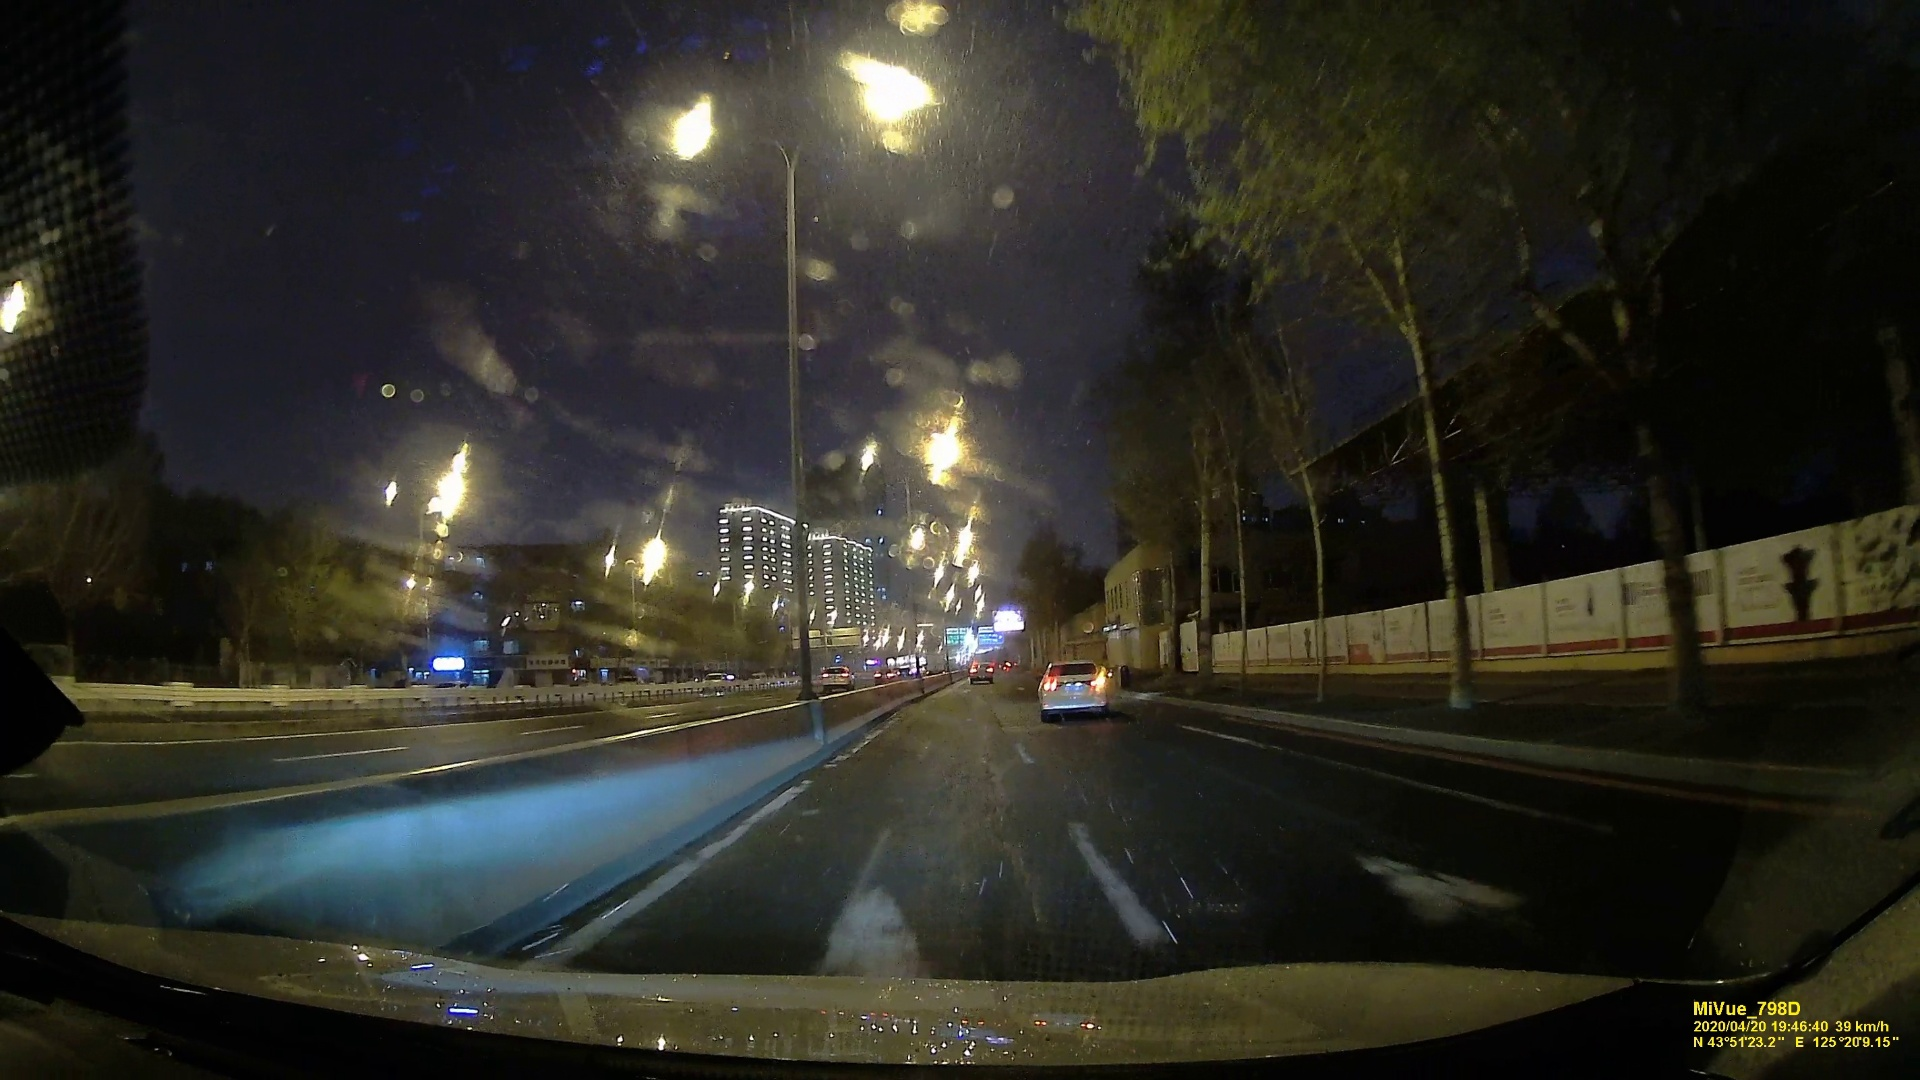traffic_sign: (945, 626, 971, 644), (978, 626, 1004, 644)
vehicle: (1036, 659, 1108, 719), (819, 665, 855, 690), (969, 663, 994, 680)
